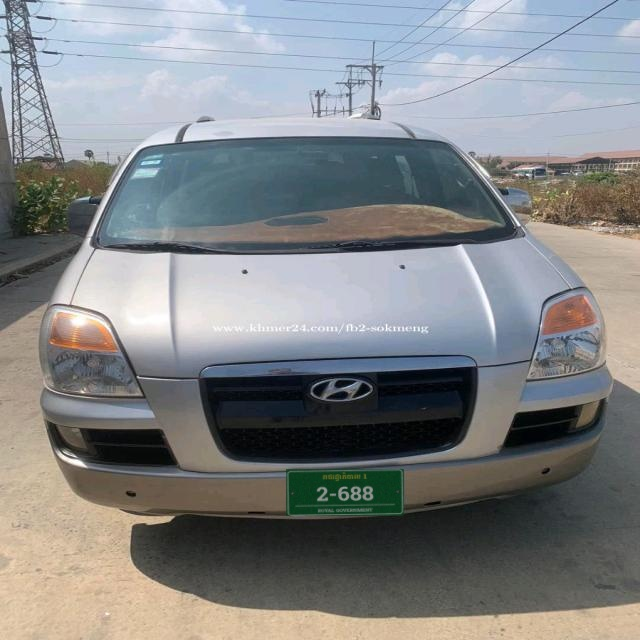Plate Number: (287, 469, 404, 517)
